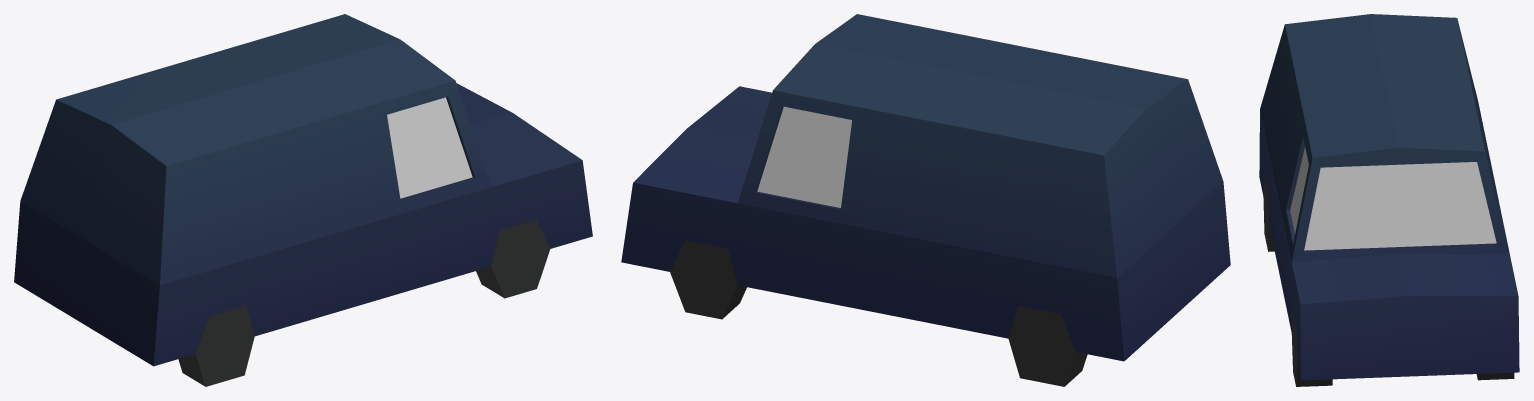
The model's file is BlueVan.fbx.
The picture shows the model from 3 angles, left to right: view 1: azimuth 30°, elevation 25°; view 2: azimuth 150°, elevation 25°; view 3: azimuth 270°, elevation 25°; orthographic projection. The views are drawn at different scales.
Visible parts, largest first — view 1: Cube.558; view 2: Cube.558; view 3: Cube.558.
Part boxes in pixels (bbox=[...]): Cube.558: bbox=[14, 14, 592, 386]; Cube.558: bbox=[621, 14, 1230, 386]; Cube.558: bbox=[1259, 14, 1519, 386].
Bounding box in the file's own units: 133 × 60.11 × 69.32.
